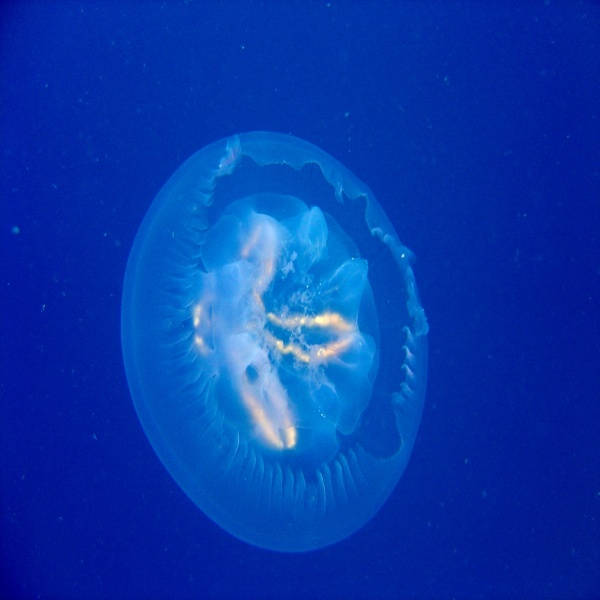Jellyfish: (117, 129, 430, 550)
